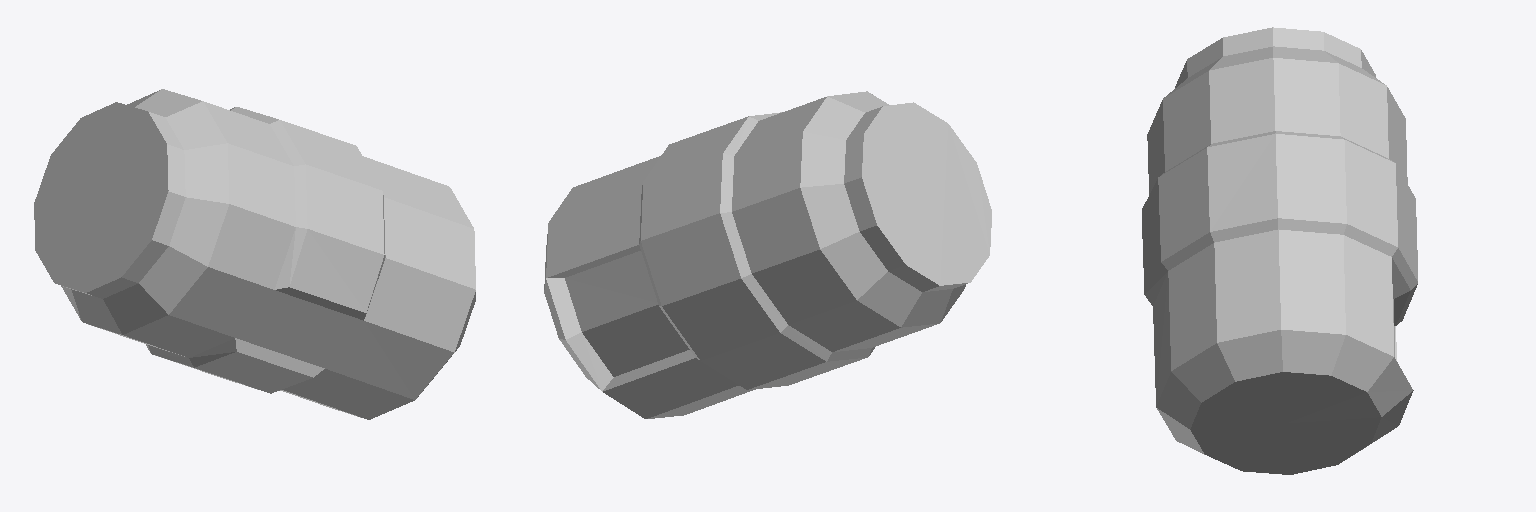
The model's file is hg_grenade.obj.
3 renders of one model, left to right at view 1: azimuth 30°, elevation 25°; view 2: azimuth 150°, elevation 25°; view 3: azimuth 270°, elevation 25°, orthographic.
Visible parts, largest first — view 1: studio.helghast_assault_medium.smd.mesh_0.008; view 2: studio.helghast_assault_medium.smd.mesh_0.008; view 3: studio.helghast_assault_medium.smd.mesh_0.008.
Boxes of the visible parts, x1=… form: studio.helghast_assault_medium.smd.mesh_0.008: x1=34, y1=89, x2=475, y2=419; studio.helghast_assault_medium.smd.mesh_0.008: x1=544, y1=91, x2=991, y2=418; studio.helghast_assault_medium.smd.mesh_0.008: x1=1142, y1=27, x2=1417, y2=474.
Bounding box in the file's own units: 7.58 × 6.24 × 4.49.